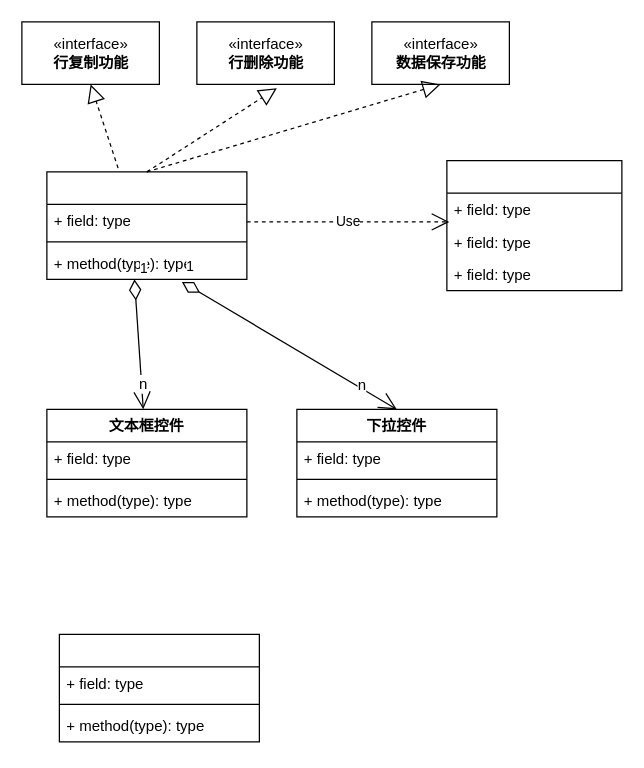
Some shapes in this 644 by 768 pixel diagram are drawn without their labels. Here are the shapes that lost their labels. From the top down, the box of each, then its label:
(46, 171, 247, 279): 动态表格
(446, 159, 622, 291): 基础表格容器
(58, 633, 259, 742): 页面/表单
